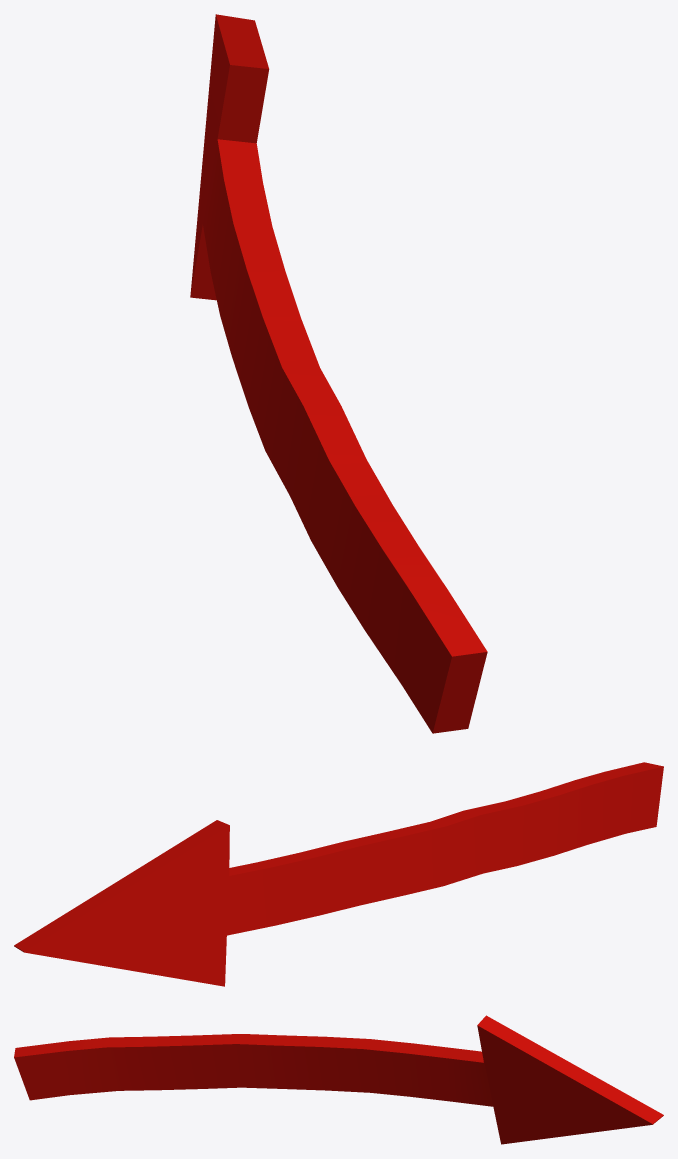
Rendered from Arrow10.fbx.
3 views of the same model, one above another, from view 1: azimuth 30°, elevation 25°; view 2: azimuth 150°, elevation 25°; view 3: azimuth 270°, elevation 25° (orthographic). The views are drawn at different scales.
Visible parts, largest first — view 1: Cube.109; view 2: Cube.109; view 3: Cube.109.
Boxes of the visible parts, bbox=[...] form: Cube.109: bbox=[190, 14, 487, 733]; Cube.109: bbox=[14, 762, 663, 986]; Cube.109: bbox=[14, 1015, 663, 1144].
Bounding box in the file's own units: 1.71 × 1.02 × 4.35.
